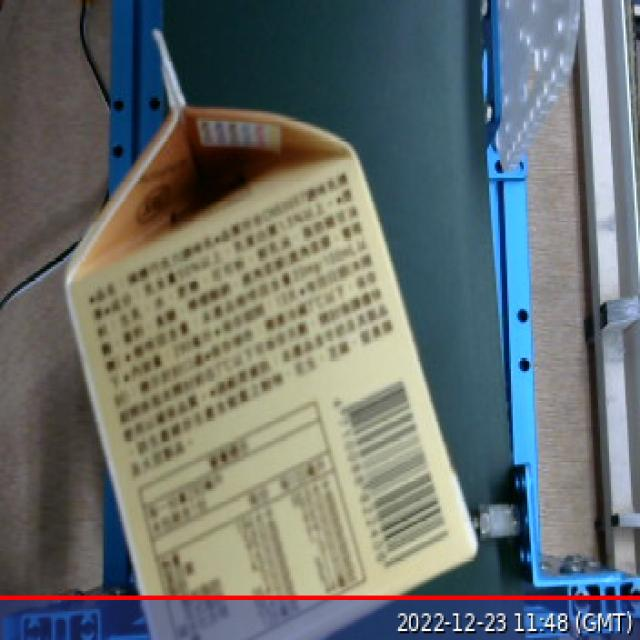non_white_jug: (49, 21, 495, 640)
